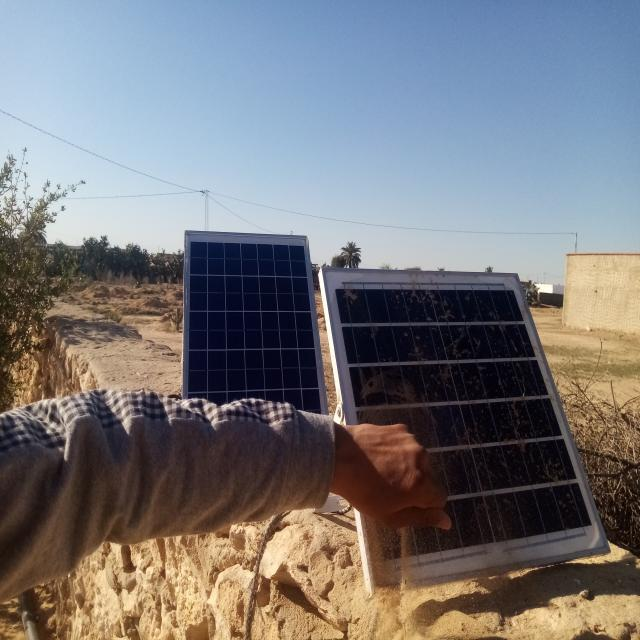faulty: (322, 270, 609, 593)
no faulty: (185, 235, 325, 403)
